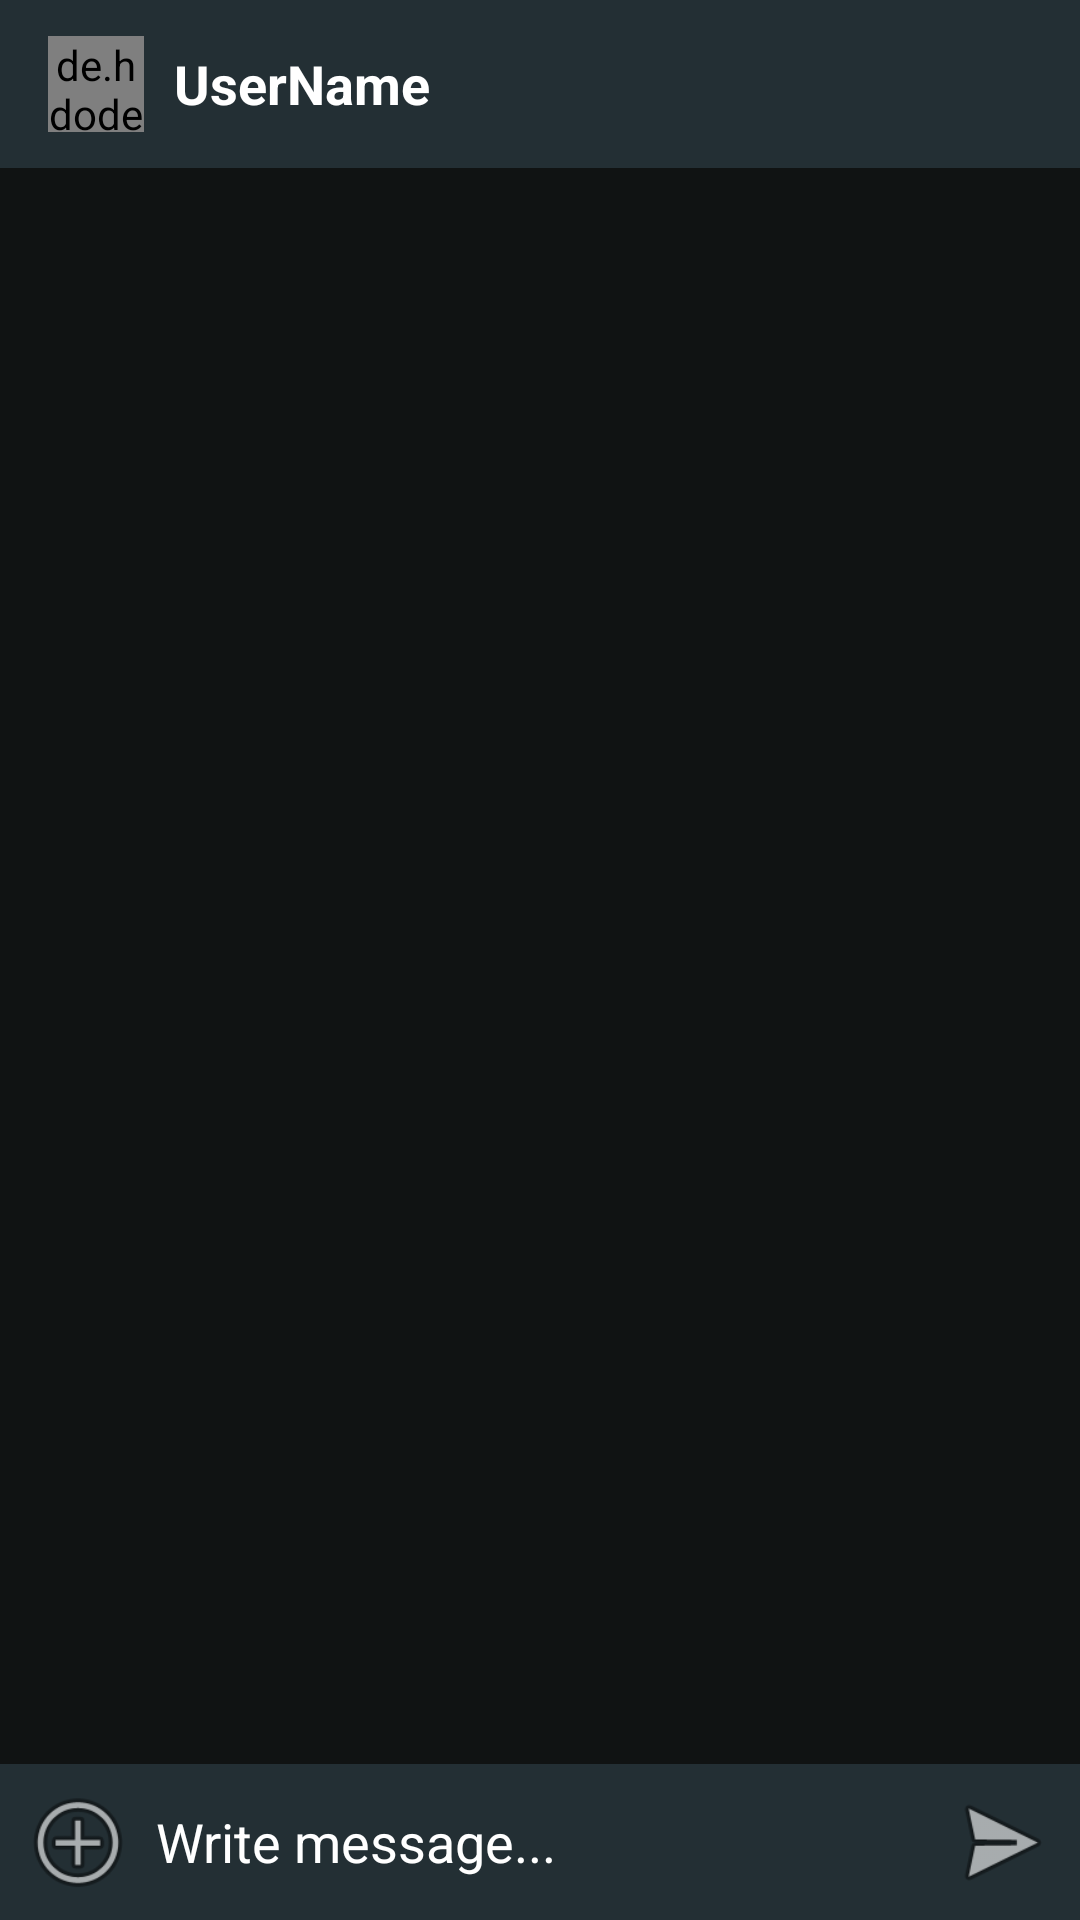

Named icons in this screenshot (1080 x 1920) and their centers, [x,y]:
add: [78,1843]
send: [1002,1842]
